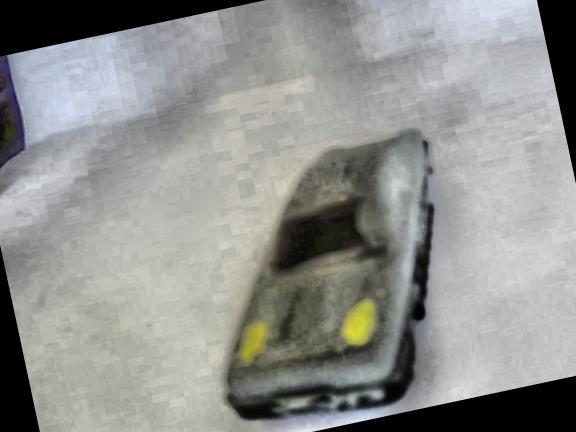normal_car: (172, 125, 482, 432)
